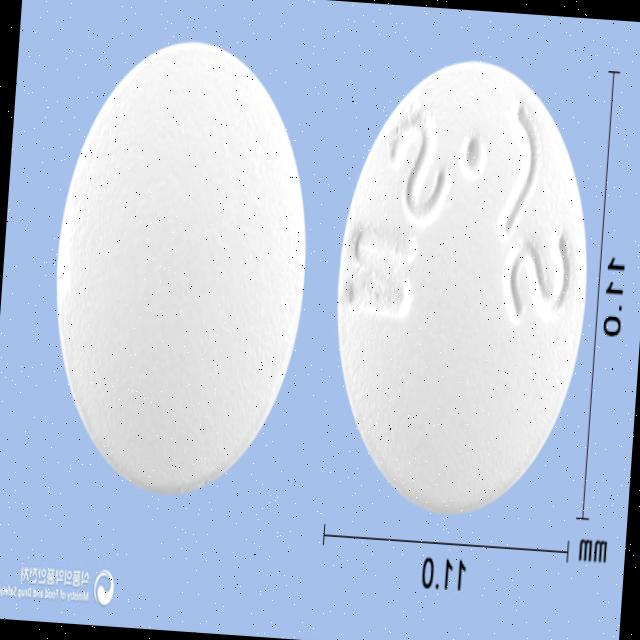Ciflonew: (317, 42, 606, 530)
